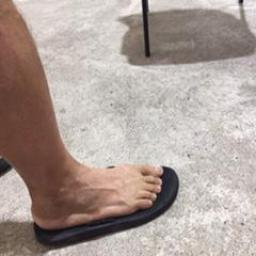Lateral View -Right Foot-: (2, 158, 189, 237)
